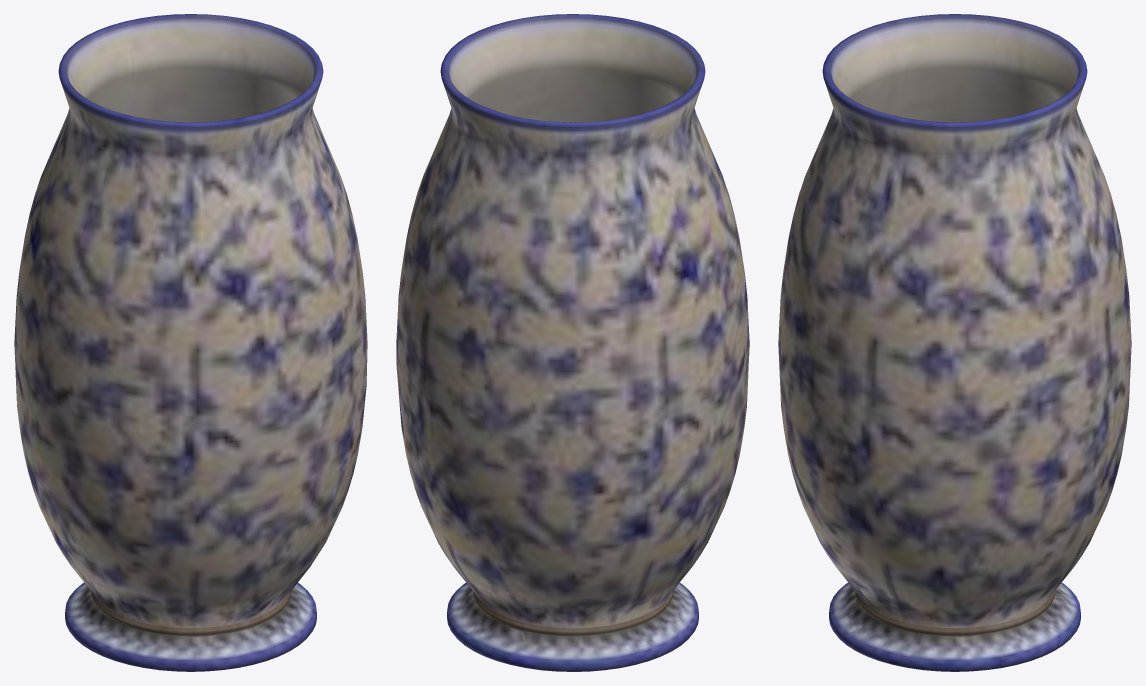
File: vase-antique.lite.039aa0a0.glb
3 views of the same model, side by side, from view 1: azimuth 30°, elevation 25°; view 2: azimuth 150°, elevation 25°; view 3: azimuth 270°, elevation 25° (orthographic).
Visible parts, largest first — view 1: model; view 2: model; view 3: model.
Boxes of the visible parts, x1,y1,x2,y2 form: model: [14, 14, 367, 671]; model: [396, 14, 749, 671]; model: [778, 14, 1131, 671].
Size of the model in its own units: 0.255 by 0.4396 by 0.255.
Materials: 1 (1 with a texture image).
